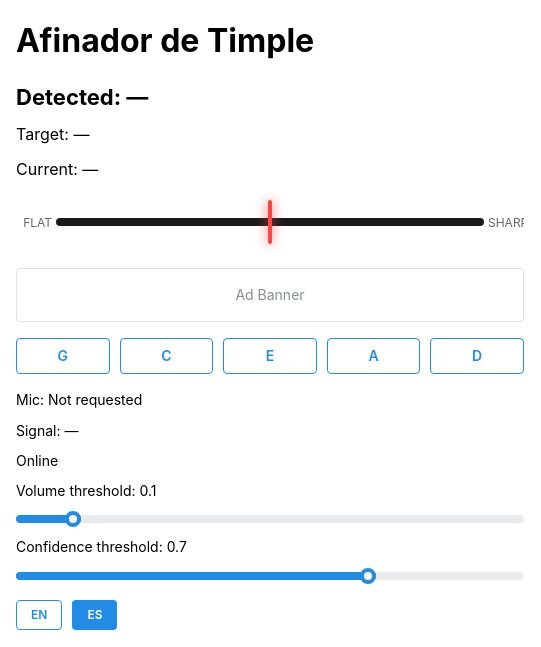
i18n integration › should switch back to English when EN button is clicked
The image size is (541, 647).
Expected: the heading "Afinador de Timple" is shown, [16, 16, 314, 66]
Click the button with test id "lang-en". click: (39, 615)
box: [16, 600, 62, 630]
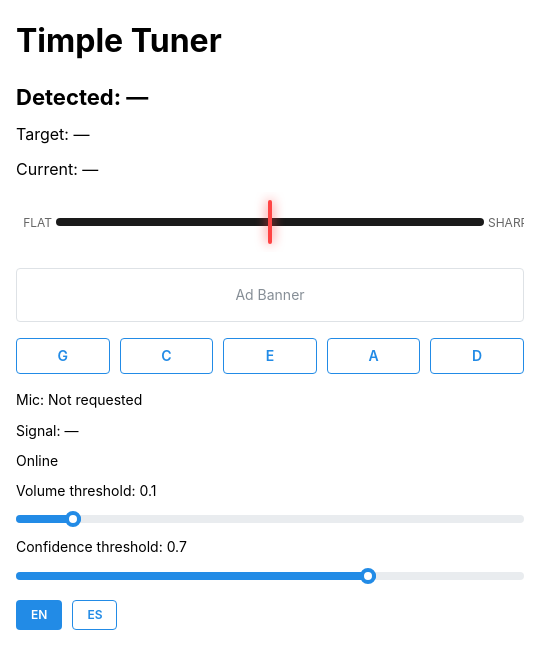
Now the heading "Timple Tuner" is shown, box [16, 16, 222, 66]
